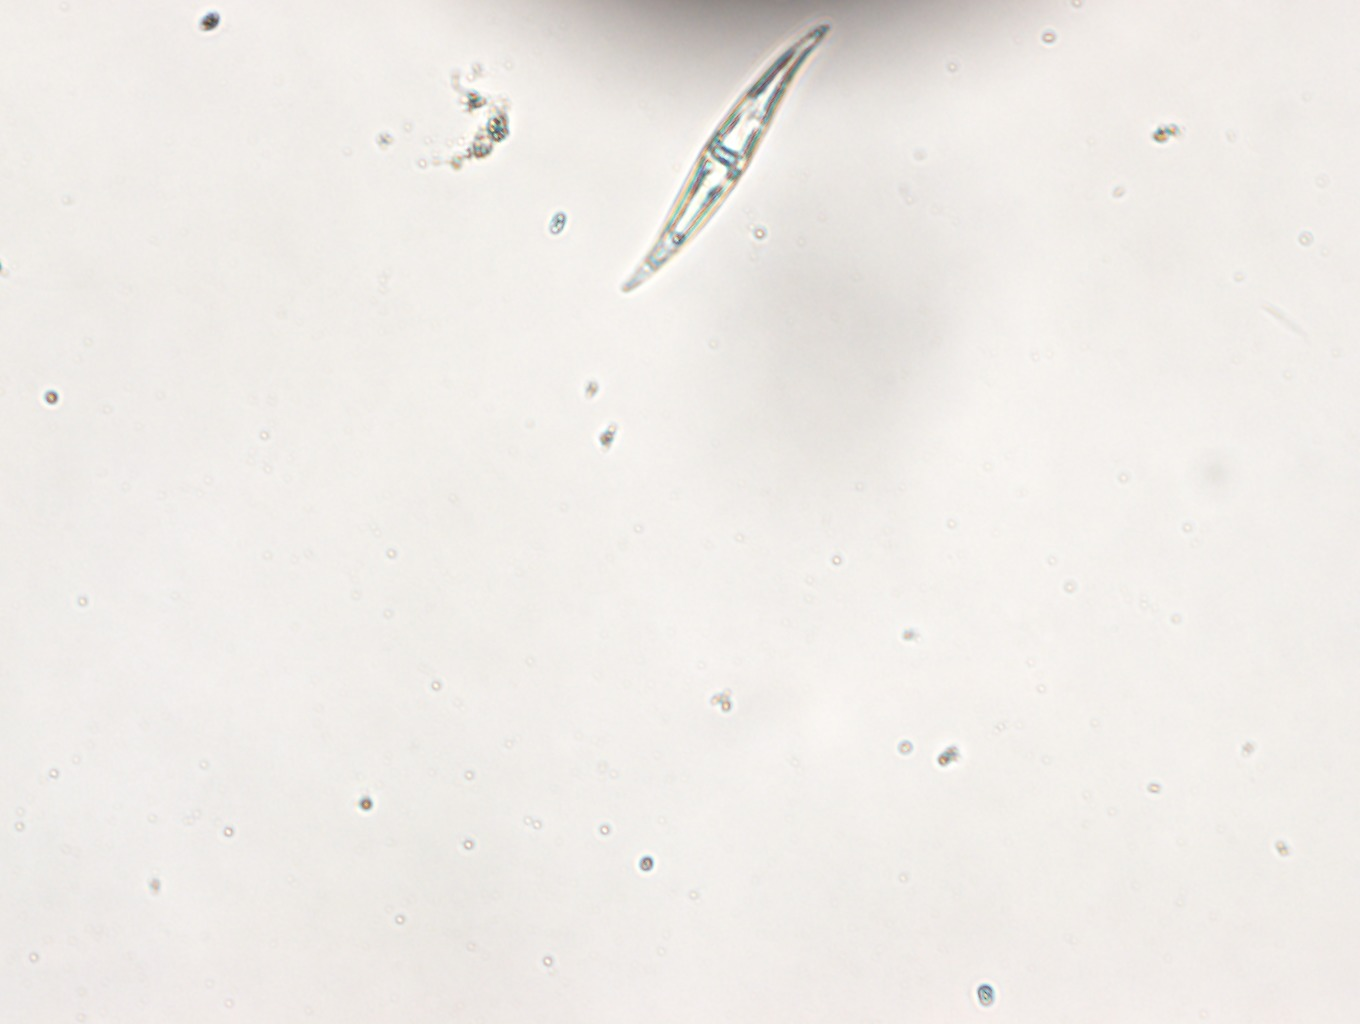pleurosigma pelagicum: (621, 23, 836, 298)
